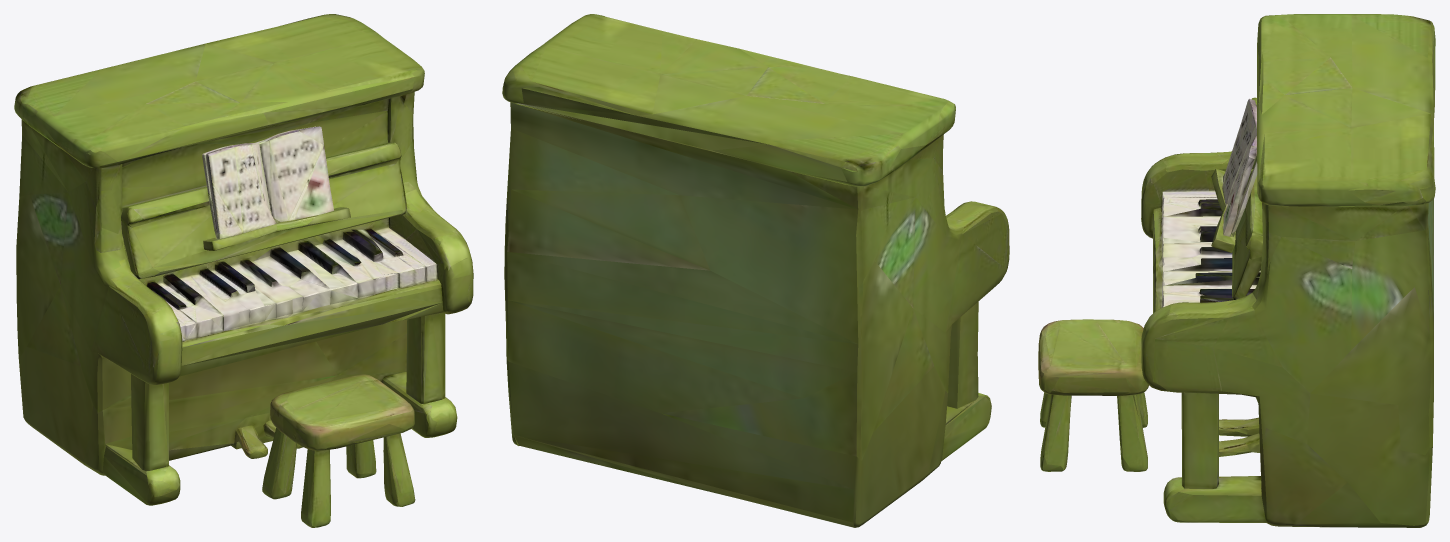
Rendered from piano.glb.
The picture shows the model from 3 angles, left to right: view 1: azimuth 30°, elevation 25°; view 2: azimuth 150°, elevation 25°; view 3: azimuth 270°, elevation 25°; orthographic projection. The views are drawn at different scales.
Bounding box in the file's own units: 1.9 × 1.79 × 1.82.
Materials: 1 (1 with a texture image).
